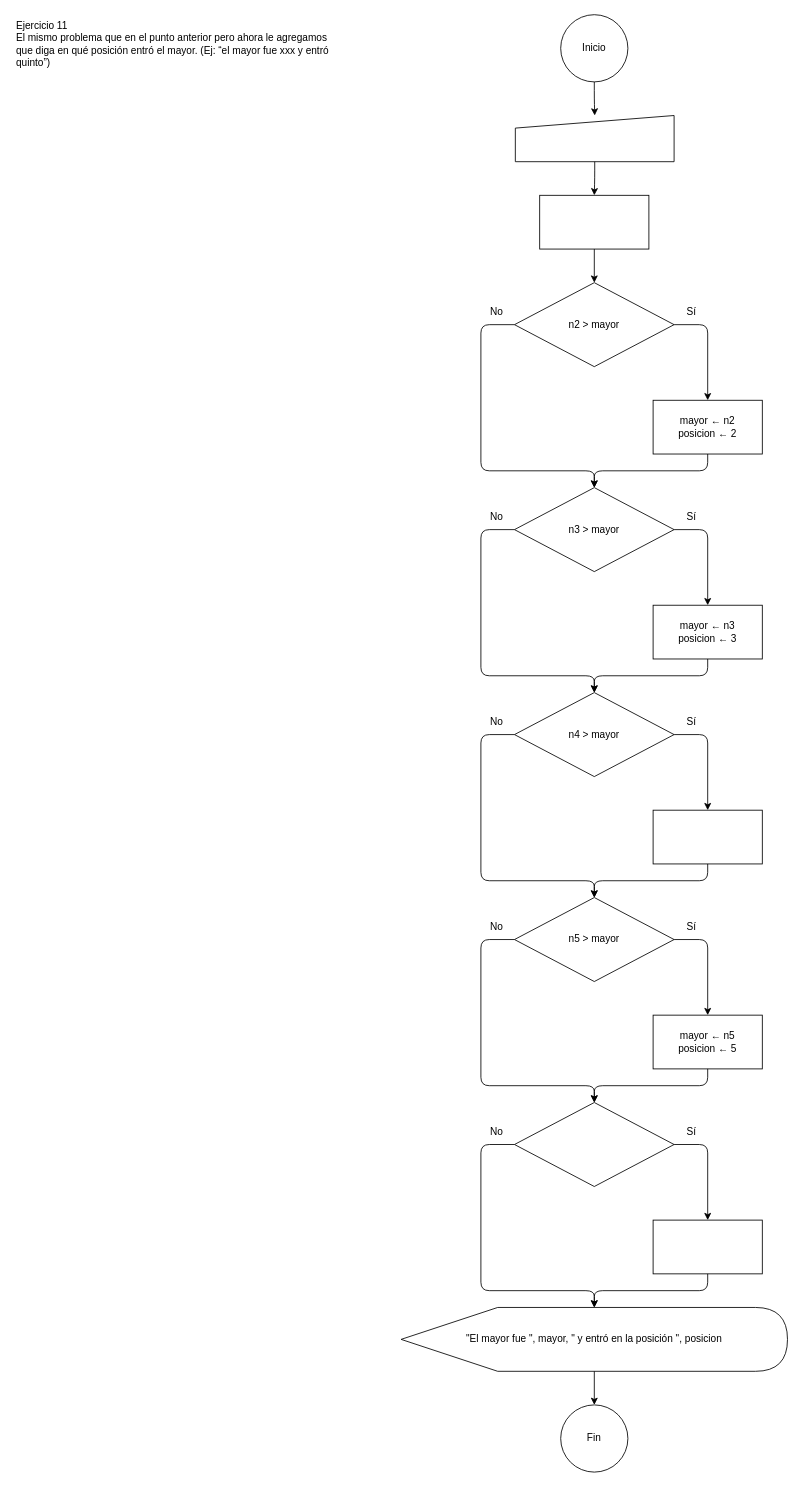
Image size: 802x1487. Some labels were removed from this diagram. The shapes that lost their labels are listed below. From the top down, each one's centre as x and y in pixels, then its label:
point 594,138: n1,n2,n3,n4,n5,n6
point 594,221: mayor ← n1 posicion ← 1
point 707,836: mayor ← n4 posicion ← 4
point 594,1144: n6 > mayor
point 707,1246: mayor ← n6 posicion ← 6
